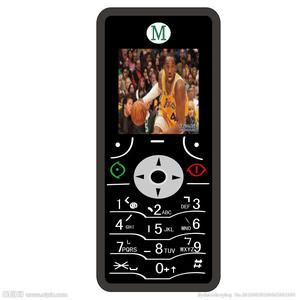phone: (99, 13, 222, 290)
